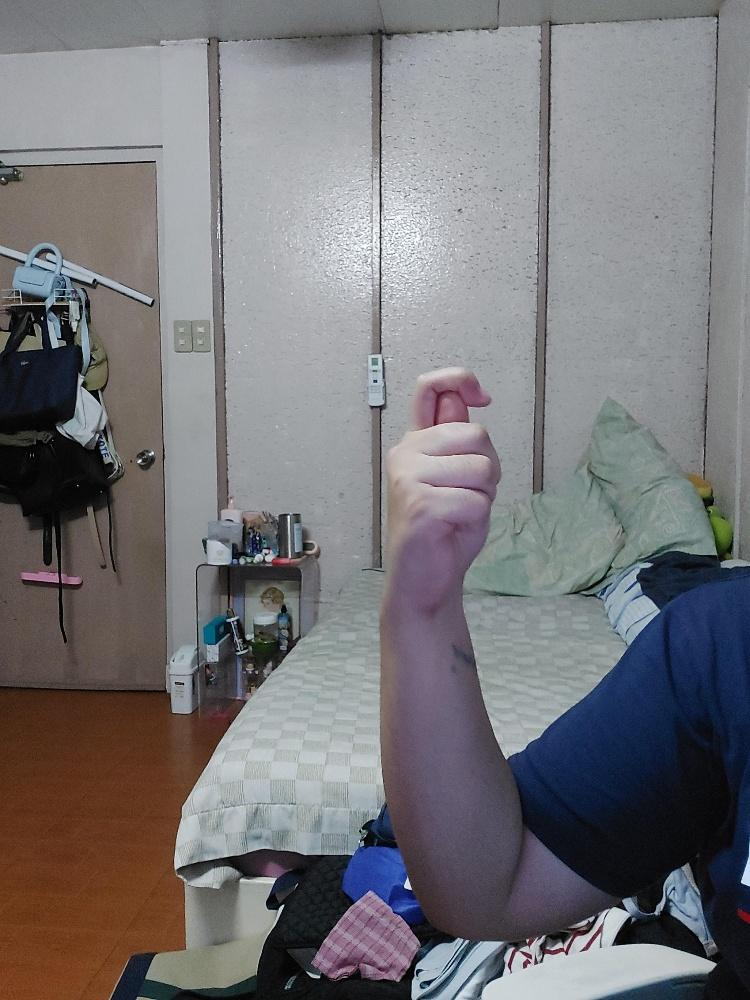t: (380, 365, 502, 618)
